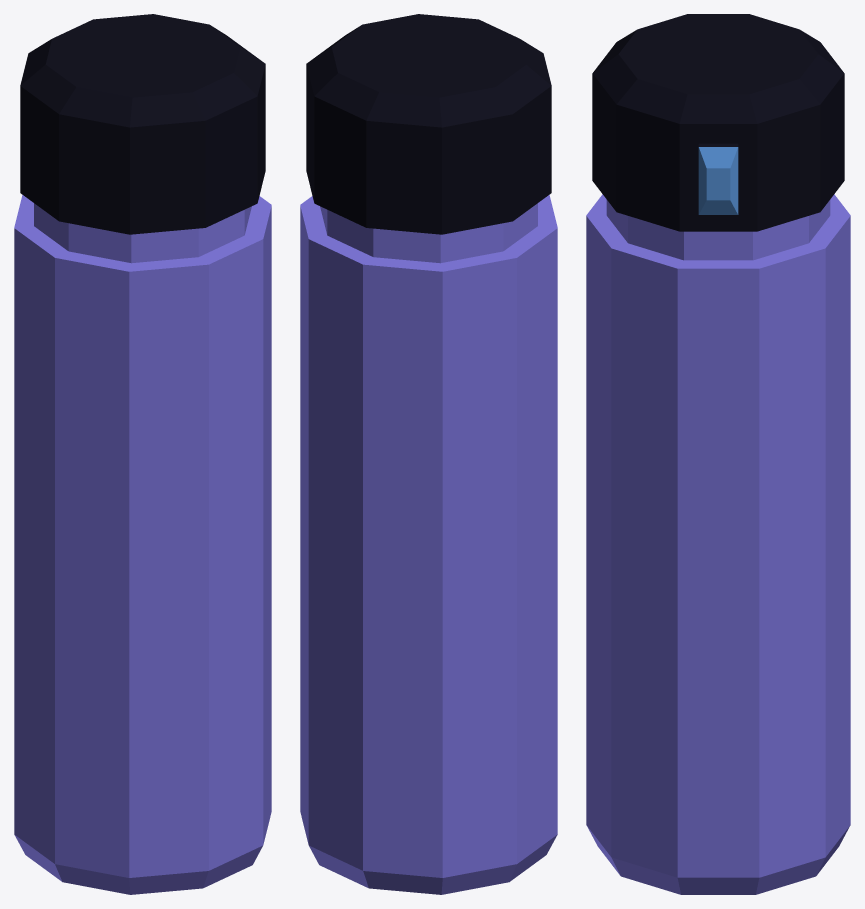
The model's file is Waterbottle.fbx.
3 views of the same model, side by side, from view 1: azimuth 30°, elevation 25°; view 2: azimuth 150°, elevation 25°; view 3: azimuth 270°, elevation 25° (orthographic).
Visible parts, largest first — view 1: Waterbottle; view 2: Waterbottle; view 3: Waterbottle.
Boxes of the visible parts, x1=… form: Waterbottle: x1=14, y1=14, x2=271, y2=894; Waterbottle: x1=300, y1=14, x2=557, y2=894; Waterbottle: x1=586, y1=14, x2=850, y2=894.
Size of the model in its own units: 1431 by 4787 by 1449.
